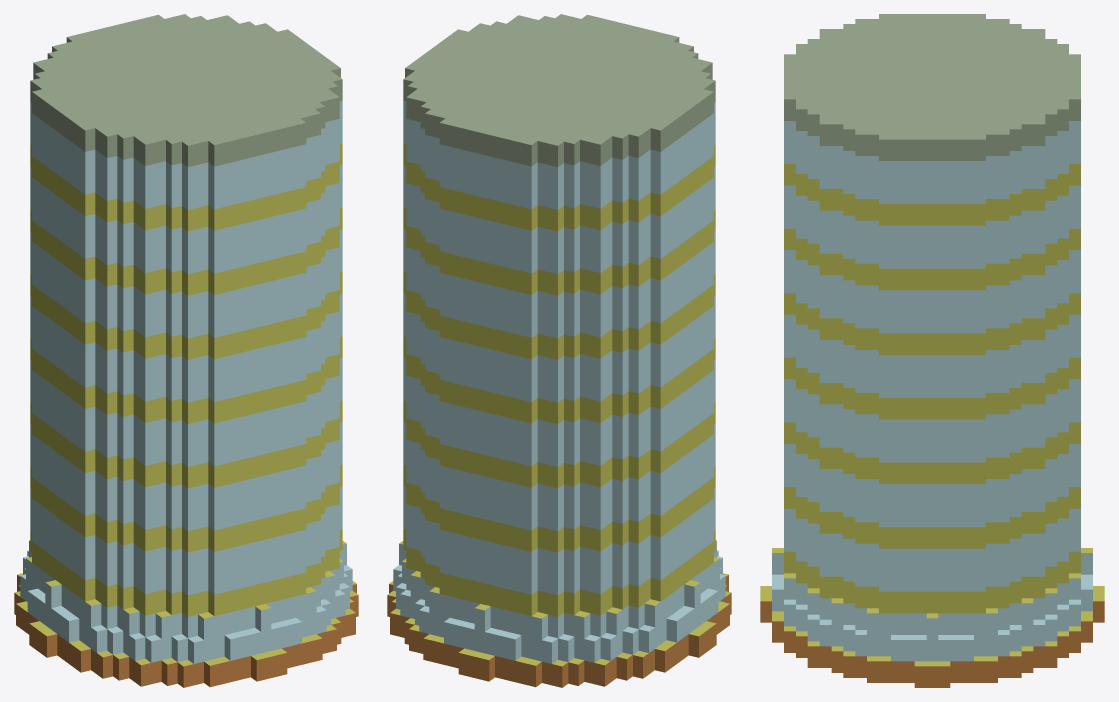
File: shop cyln.fbx
3 renders of one model, left to right at view 1: azimuth 30°, elevation 25°; view 2: azimuth 150°, elevation 25°; view 3: azimuth 270°, elevation 25°, orthographic.
Visible parts, largest first — view 1: shop cyln; view 2: shop cyln; view 3: shop cyln.
Boxes of the visible parts, x1,y1,x2,y2 form: shop cyln: (14,14,358,687); shop cyln: (387,14,731,687); shop cyln: (760,14,1104,687).
Bounding box in the file's own units: 649 × 1118 × 649.
